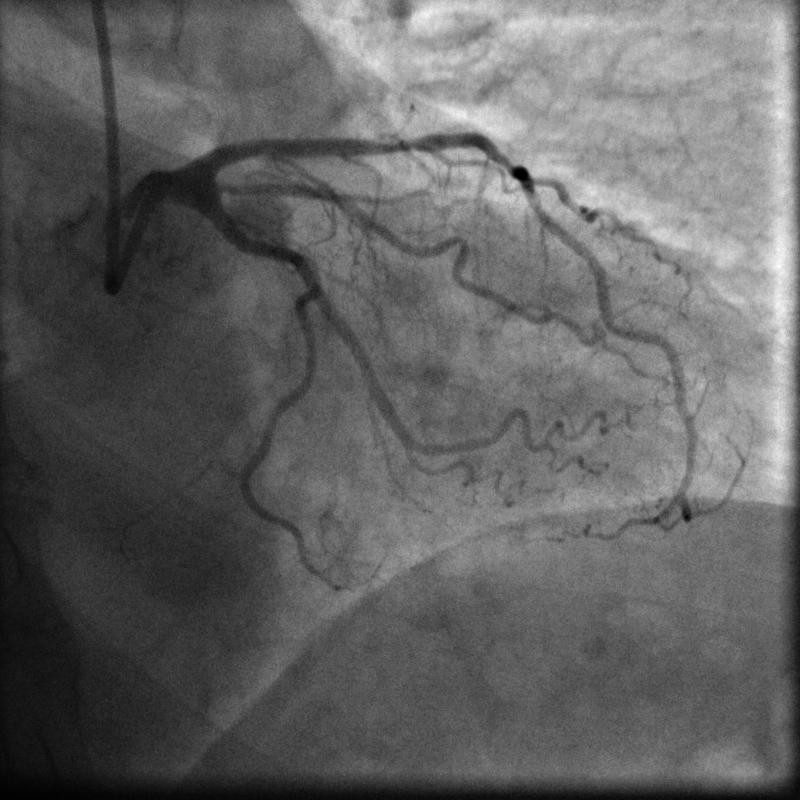Stenosis: (365, 132, 434, 153)
